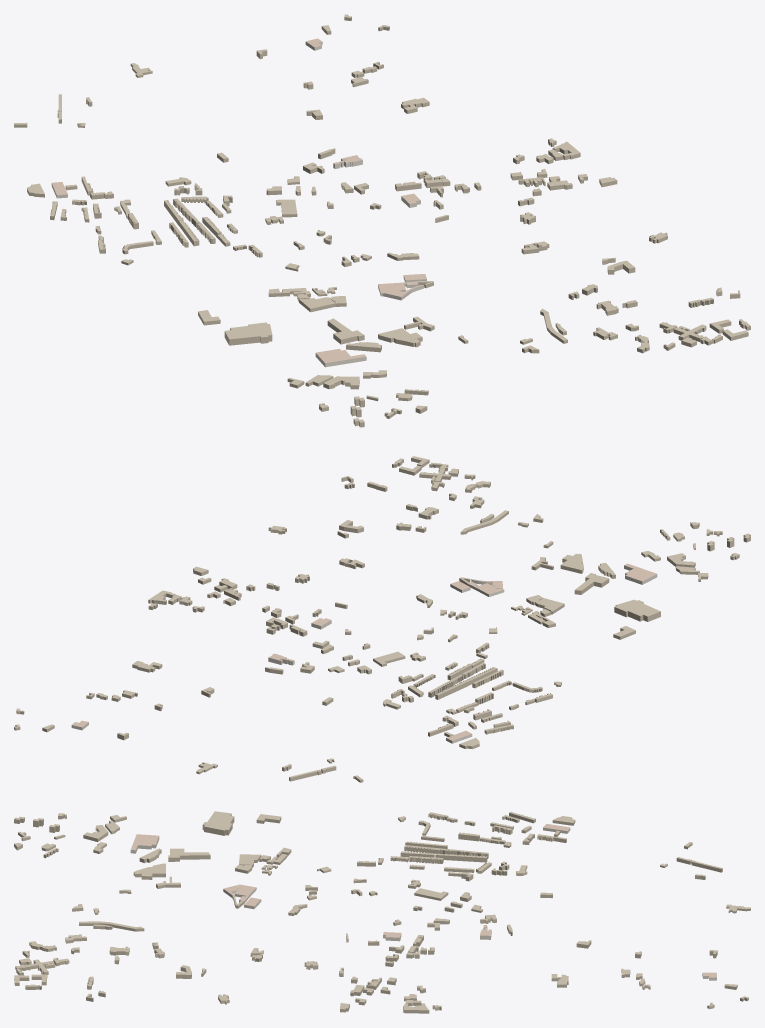
3 views of the same model, one above another, from view 1: azimuth 30°, elevation 25°; view 2: azimuth 150°, elevation 25°; view 3: azimuth 270°, elevation 25° (orthographic). The views are drawn at different scales.
Bounding box in the file's own units: 1540 × 44.18 × 2462.
